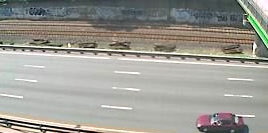car: (194, 111, 247, 133)
